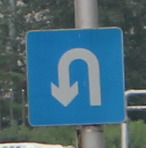u_turn: (27, 27, 126, 127)
